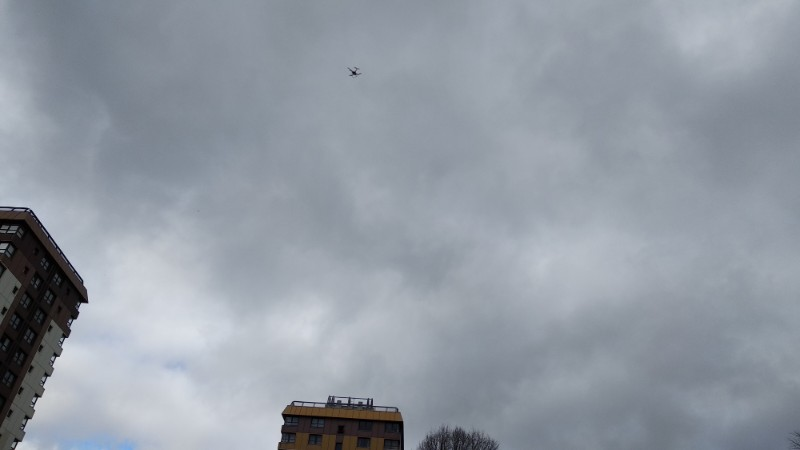drone: (348, 67, 361, 79)
